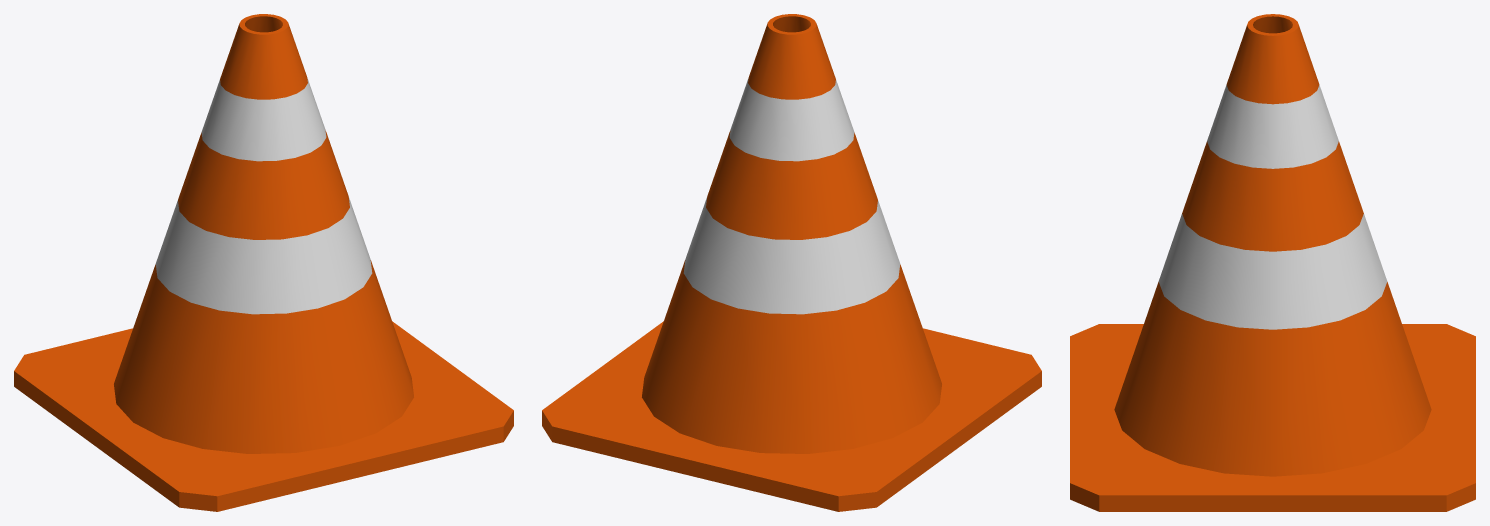
The model's file is ConoTransito.fbx.
3 renders of one model, left to right at view 1: azimuth 30°, elevation 25°; view 2: azimuth 150°, elevation 25°; view 3: azimuth 270°, elevation 25°, orthographic. The views are drawn at different scales.
Visible parts, largest first — view 1: Cylinder.006; view 2: Cylinder.006; view 3: Cylinder.006.
Boxes of the visible parts, bbox=[...] form: Cylinder.006: bbox=[14, 14, 513, 511]; Cylinder.006: bbox=[542, 14, 1041, 511]; Cylinder.006: bbox=[1070, 14, 1475, 511].
Bounding box in the file's own units: 256 × 279 × 256.
